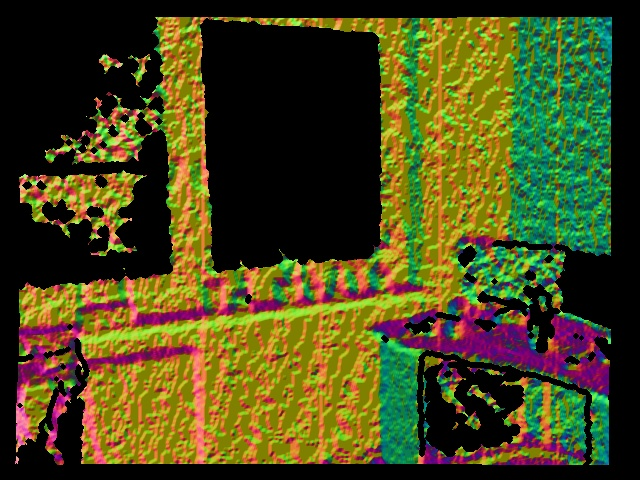station: (72, 269, 137, 326)
